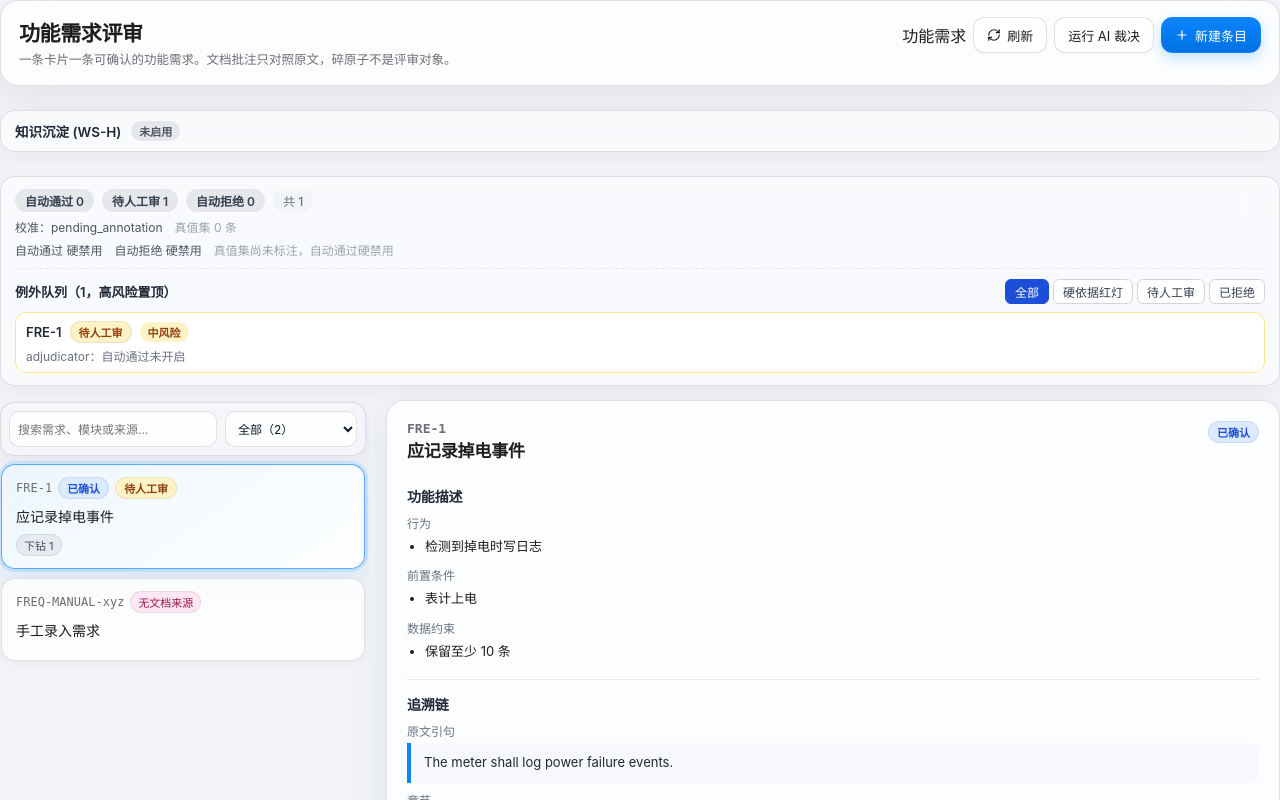
FunctionalReview (WS-F) › creates a manual requirement with objective/behaviors and selects it (Cap3)
Step 1. Click the button with test id "fr-new-manual" → (1211, 35), box [1161,17,1261,53]
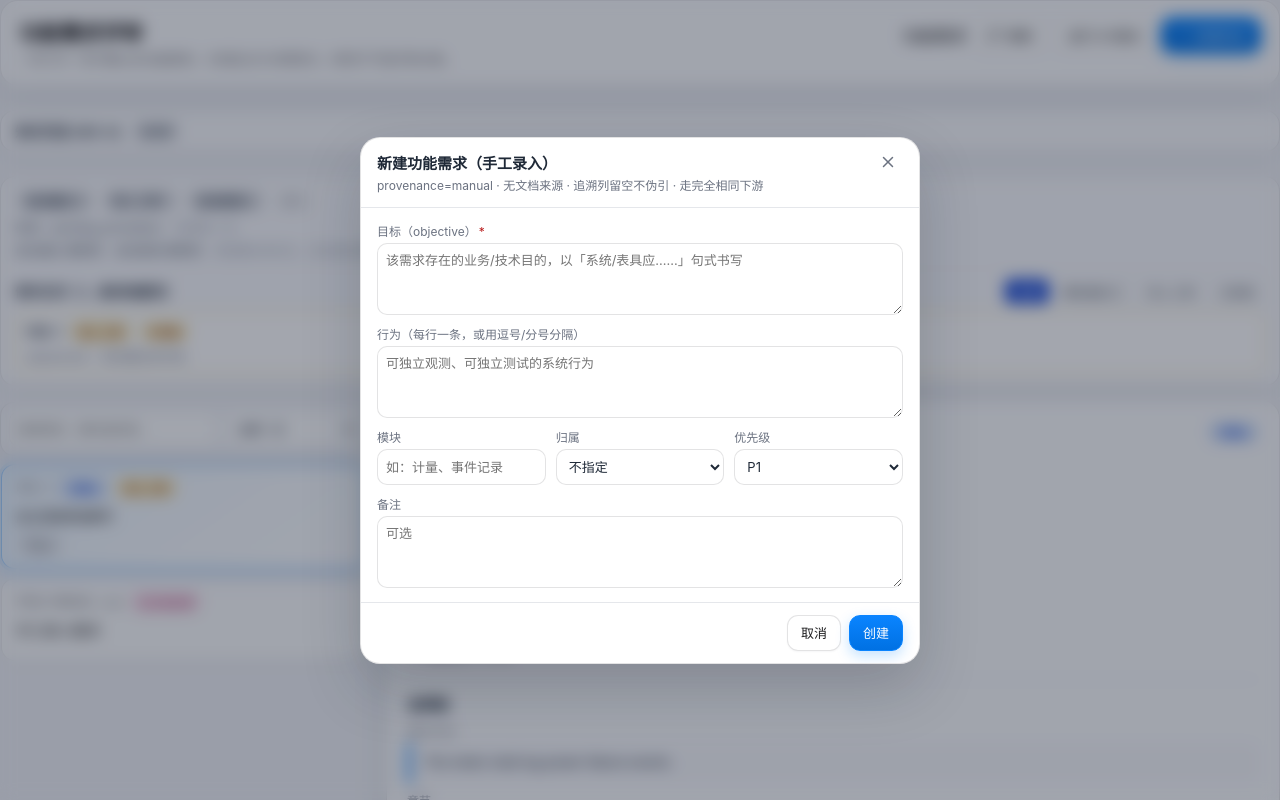
expect the dialog with test id "manual-form" is shown: met
Step 2. Type "应支持参数下发" into the text box with test id "manual-objective" → (640, 278), box [377,242,903,314]
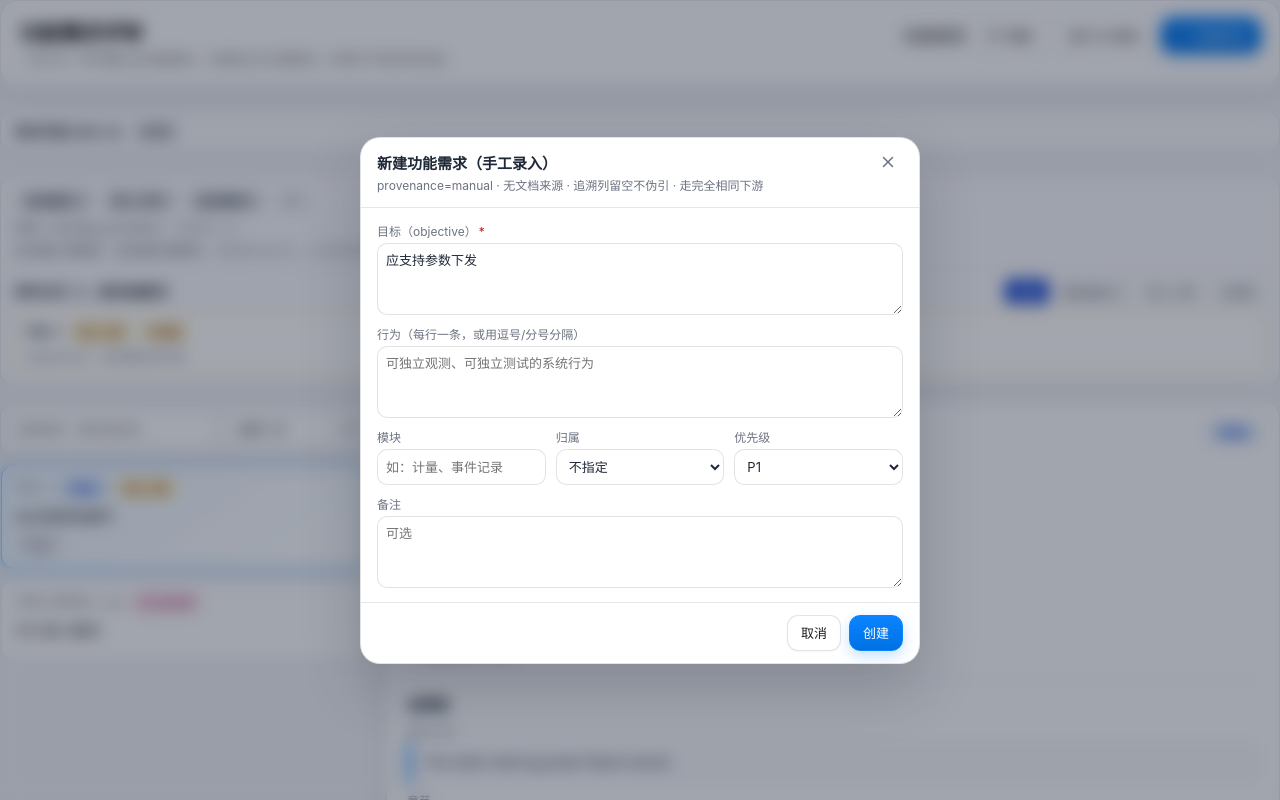
Step 3. Type "接收参数, 校验参数" into the text box with test id "manual-behaviors" → (640, 382), box [377,346,903,418]
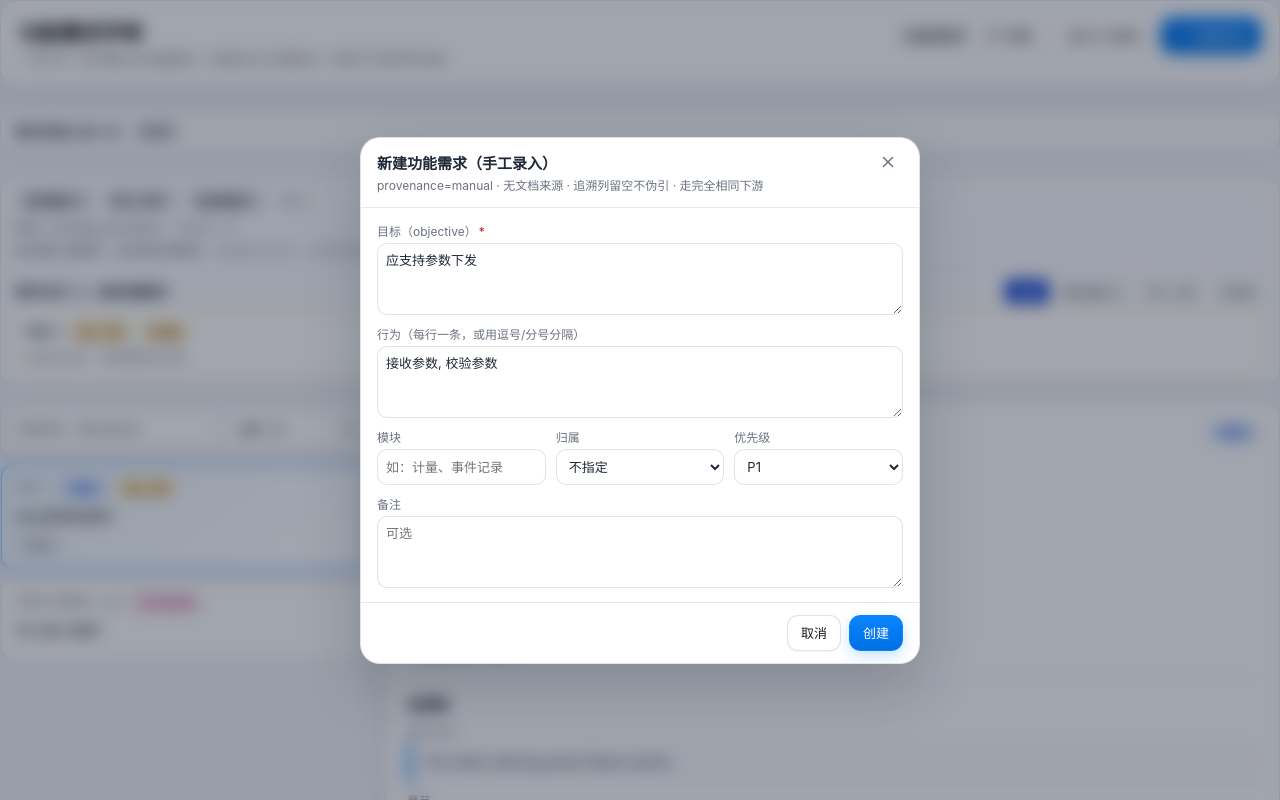
Step 4. Type "通信协议" into the field with test id "manual-module" → (461, 466), box [377,448,546,484]
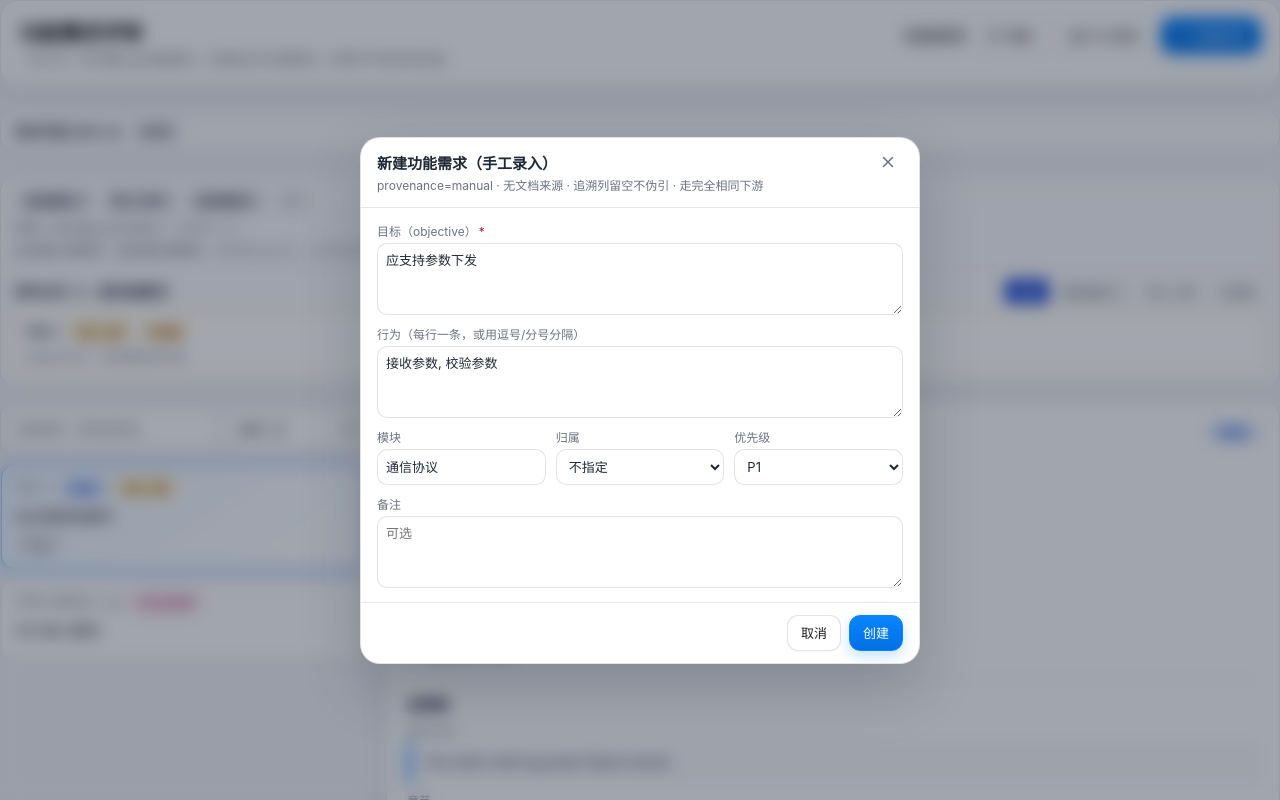
Step 5. Click the button with test id "manual-submit" → (876, 632), box [849,614,903,650]
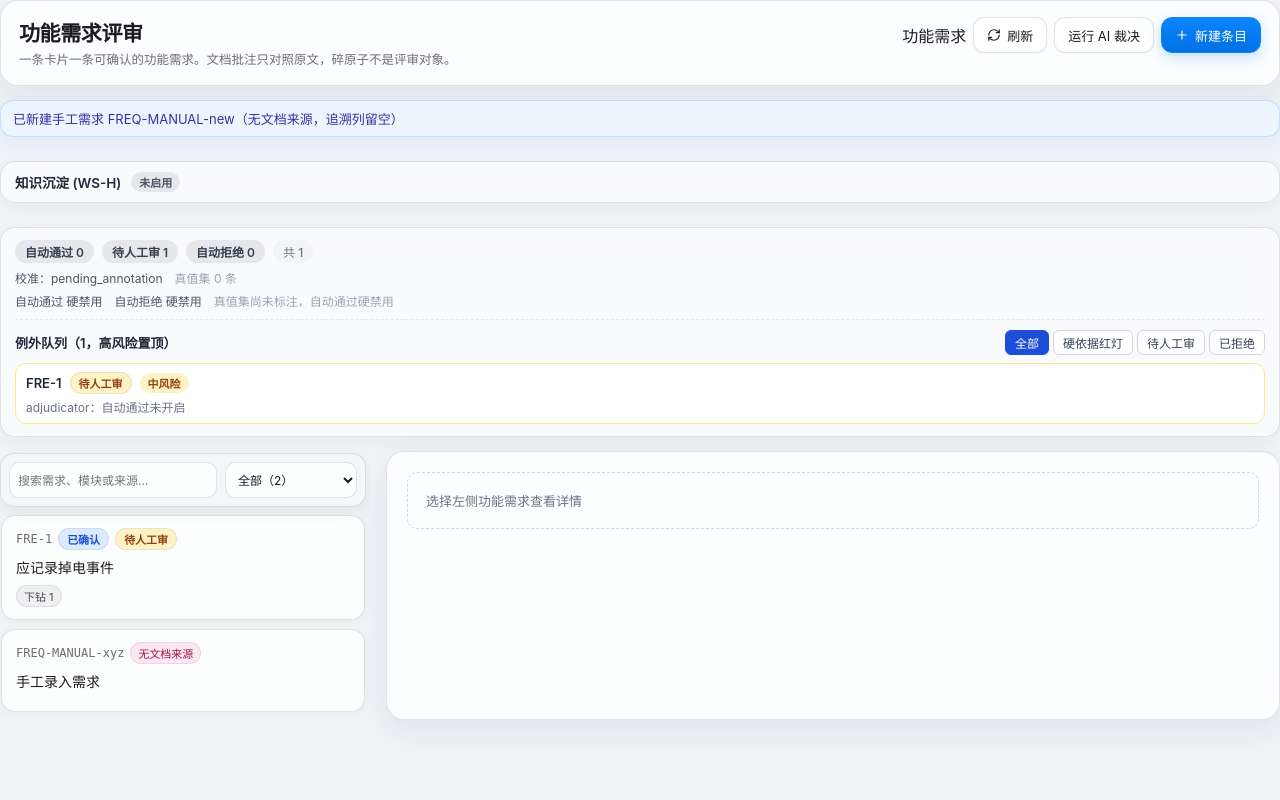
expect the text with test id "fr-message" shows "FREQ-MANUAL-new": met, box [13,111,404,127]
expect the text with test id "fr-message" shows "无文档来源": met, box [13,111,404,127]
